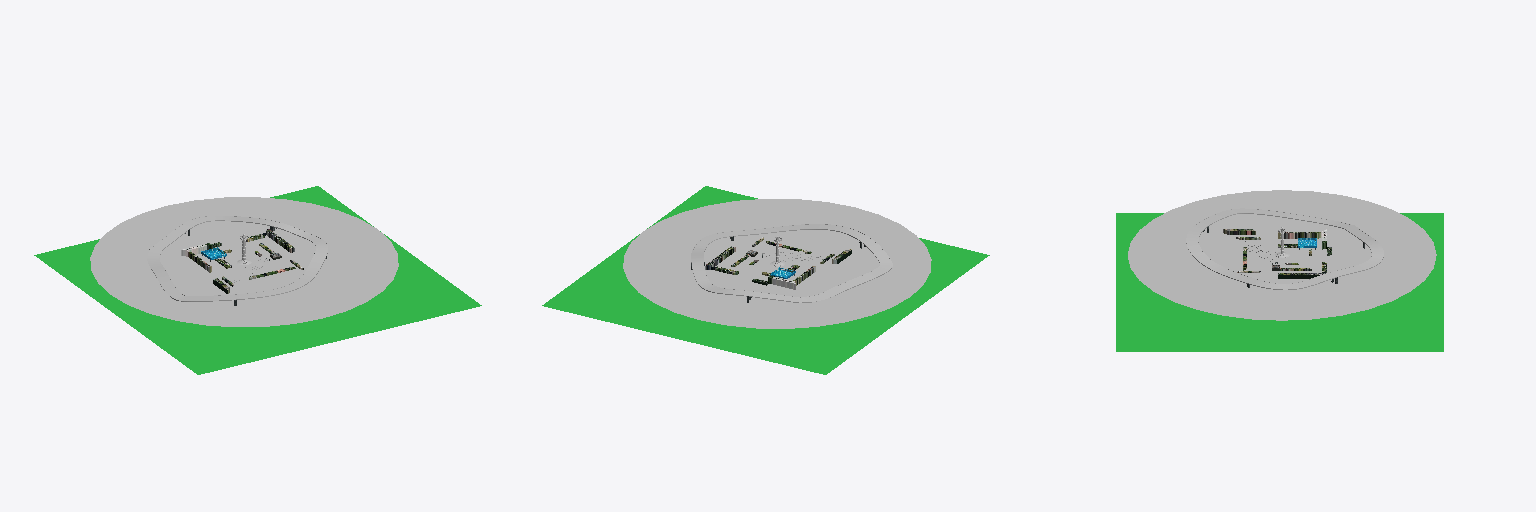
The picture shows the model from 3 angles: view 1: azimuth 30°, elevation 25°; view 2: azimuth 150°, elevation 25°; view 3: azimuth 270°, elevation 25°; orthographic projection.
Visible parts, largest first — view 1: Circle.001, Plane.006_Plane.012, Plane.008_Plane.015, Plane; view 2: Circle.001, Plane.006_Plane.012, Plane.008_Plane.015, Plane; view 3: Circle.001, Plane.006_Plane.012, Plane.008_Plane.015, Plane.
Part boxes in pixels (x1,y1,x2,y2): Circle.001: (90, 197, 398, 326); Plane.006_Plane.012: (34, 186, 481, 374); Plane.008_Plane.015: (147, 216, 327, 301); Plane: (181, 229, 303, 293); Circle.001: (623, 199, 931, 328); Plane.006_Plane.012: (542, 186, 989, 374); Plane.008_Plane.015: (691, 224, 892, 302); Plane: (705, 237, 851, 289); Circle.001: (1128, 190, 1436, 320); Plane.006_Plane.012: (1116, 213, 1443, 351); Plane.008_Plane.015: (1186, 208, 1383, 289); Plane: (1223, 229, 1331, 278).
Size of the model in its own units: 243 by 40.36 by 239.
Materials: 13 (4 with a texture image).